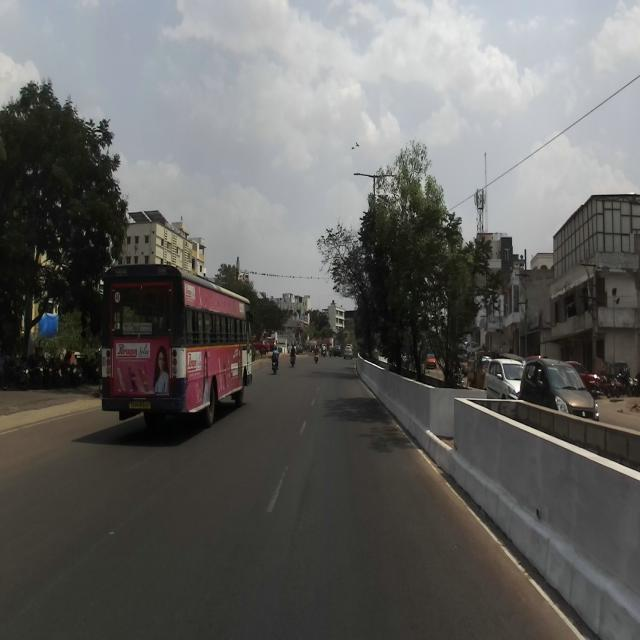bus: (101, 263, 254, 425)
car: (520, 358, 598, 422)
